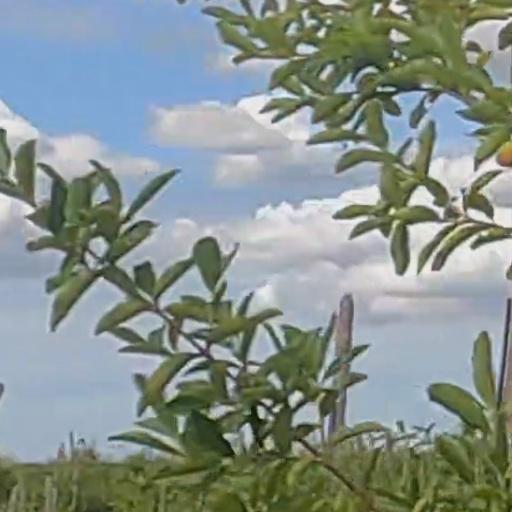acerola_vermelha: (496, 142, 512, 168)
